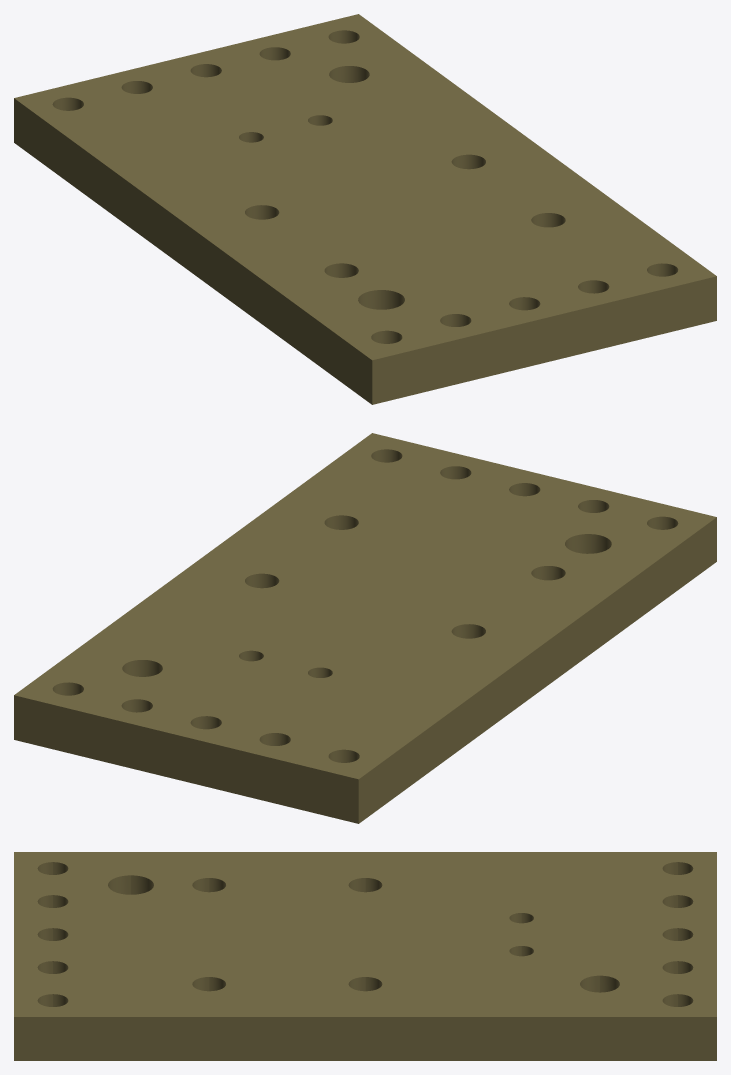
Rendered from ada-5631.glb.
The picture shows the model from 3 angles, top to bottom: view 1: azimuth 30°, elevation 25°; view 2: azimuth 150°, elevation 25°; view 3: azimuth 270°, elevation 25°; orthographic projection.
Visible parts, largest first — view 1: 0.16666666666666666_0.16666666666666666_0.08333333333333333_; view 2: 0.16666666666666666_0.16666666666666666_0.08333333333333333_; view 3: 0.16666666666666666_0.16666666666666666_0.08333333333333333_.
Boxes of the visible parts, box(x1,y1,x2,y2) form: 0.16666666666666666_0.16666666666666666_0.08333333333333333_: box(14, 14, 716, 404); 0.16666666666666666_0.16666666666666666_0.08333333333333333_: box(14, 433, 716, 823); 0.16666666666666666_0.16666666666666666_0.08333333333333333_: box(14, 852, 716, 1060).
Bounding box in the file's own units: 1.27 × 0.1571 × 2.29.
